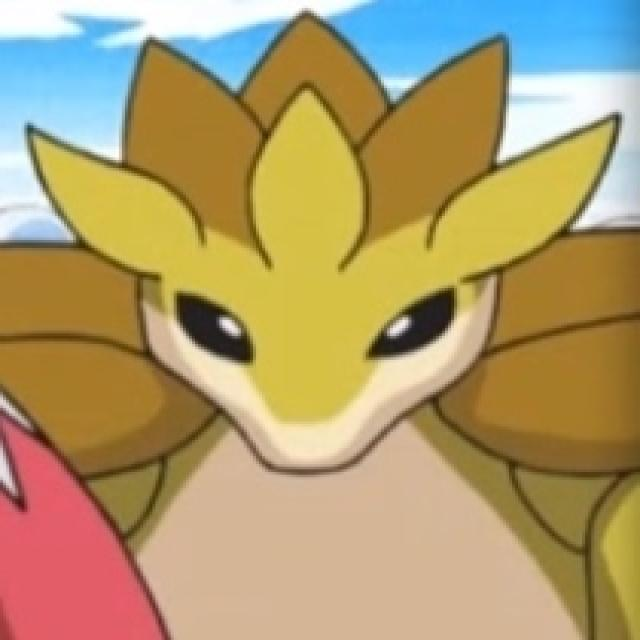Sandslash: (18, 0, 640, 532)
